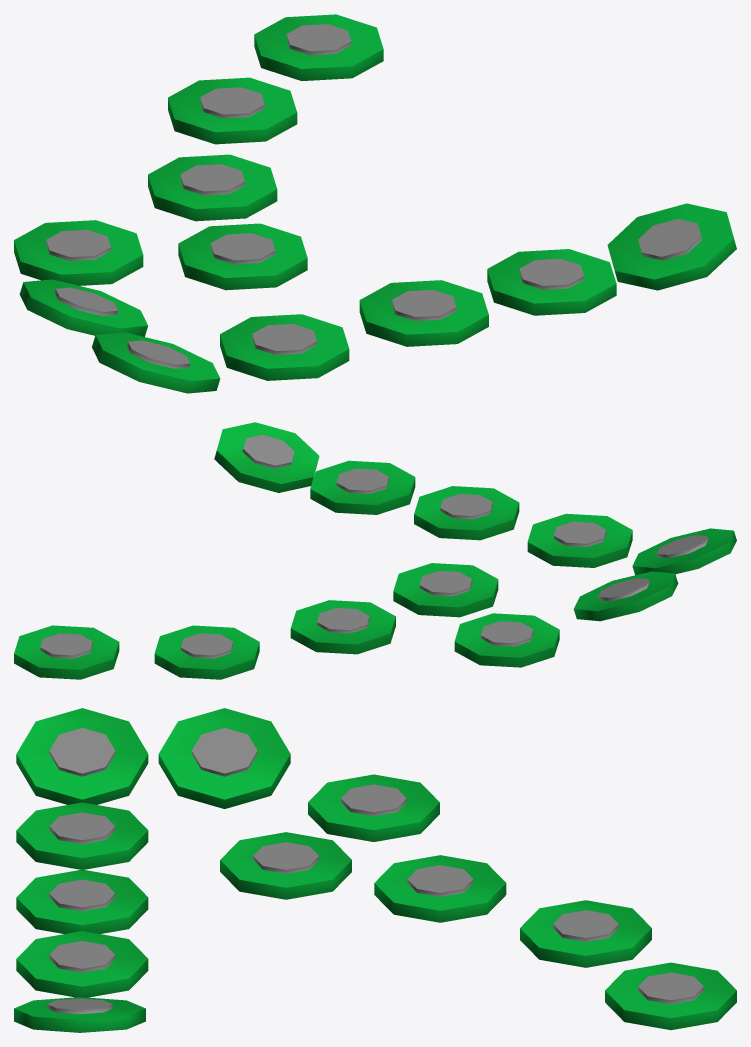
The model's file is MINE04.glb.
The picture shows the model from 3 angles, top to bottom: view 1: azimuth 30°, elevation 25°; view 2: azimuth 150°, elevation 25°; view 3: azimuth 270°, elevation 25°; orthographic projection. The views are drawn at different scales.
Parts seen in each view (by area): view 1: FRAME_ROOT; view 2: FRAME_ROOT; view 3: FRAME_ROOT.
Part boxes in pixels (<box>): FRAME_ROOT: <box>14,14,736,393</box>; FRAME_ROOT: <box>14,422,736,679</box>; FRAME_ROOT: <box>14,708,736,1032</box>.
Bounding box in the file's own units: 5.43 × 0.4606 × 5.48.
1 material, 1 textured.
